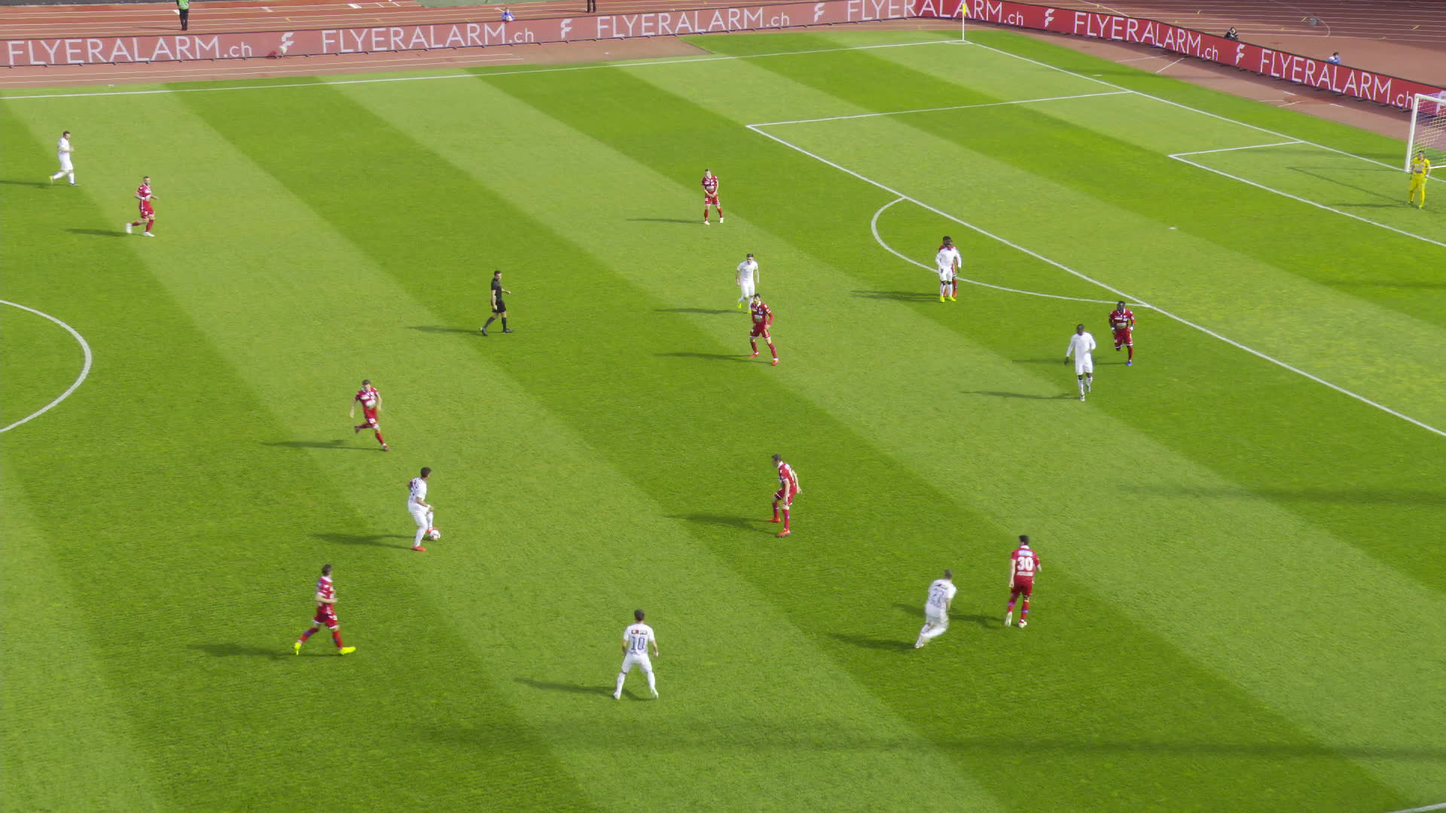ball: (437, 531, 448, 544)
player: (292, 565, 351, 658), (612, 604, 662, 696), (905, 568, 958, 653), (1002, 532, 1039, 631), (404, 465, 443, 555), (770, 452, 803, 536), (350, 378, 386, 450), (1065, 319, 1095, 399), (1107, 298, 1138, 366), (749, 292, 778, 364), (127, 173, 157, 239), (935, 240, 960, 302), (735, 253, 760, 315), (50, 129, 74, 190), (1405, 148, 1429, 209), (700, 169, 723, 227), (938, 235, 957, 298)
referee: (480, 268, 511, 334)
